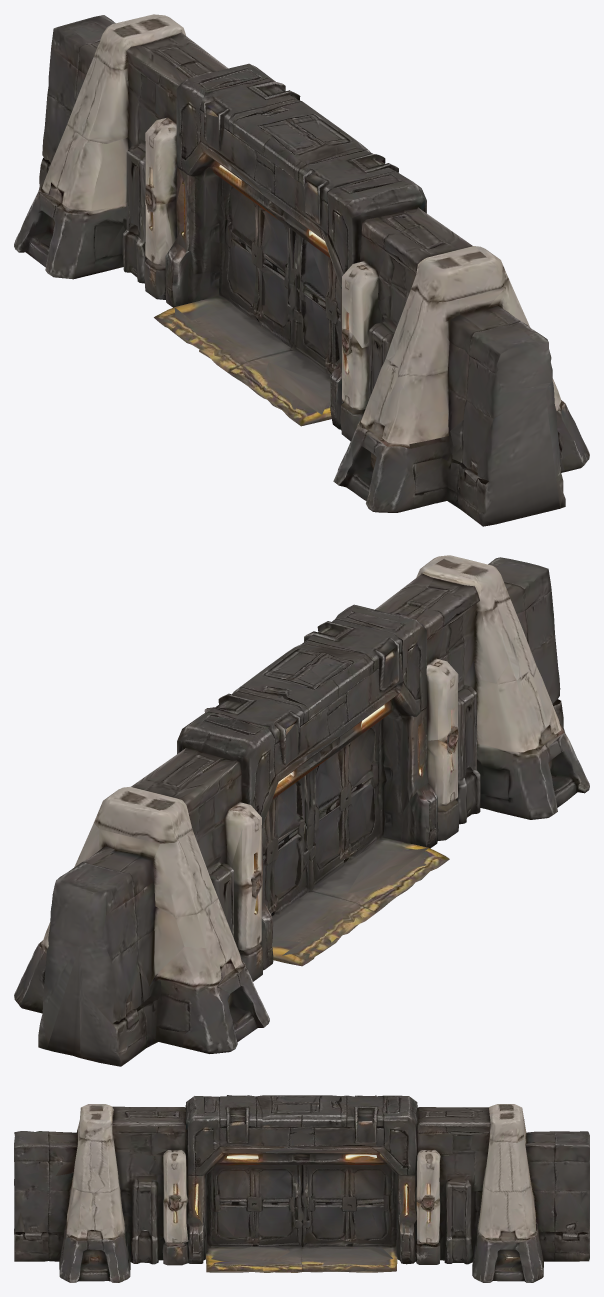
File: gateHouse.glb
3 renders of one model, top to bottom at view 1: azimuth 30°, elevation 25°; view 2: azimuth 150°, elevation 25°; view 3: azimuth 270°, elevation 25°, orthographic. The views are drawn at different scales.
Visible parts, largest first — view 1: gateHouse; view 2: gateHouse; view 3: gateHouse.
Boxes of the visible parts, bbox=[...] form: gateHouse: bbox=[14, 14, 589, 526]; gateHouse: bbox=[14, 555, 589, 1066]; gateHouse: bbox=[14, 1095, 589, 1282].
Size of the model in its own units: 9.08 by 9 by 32.
1 material, 1 textured.
